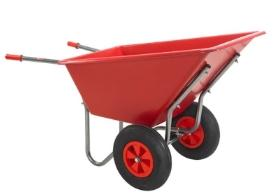BROUETTE: (0, 25, 276, 193)
